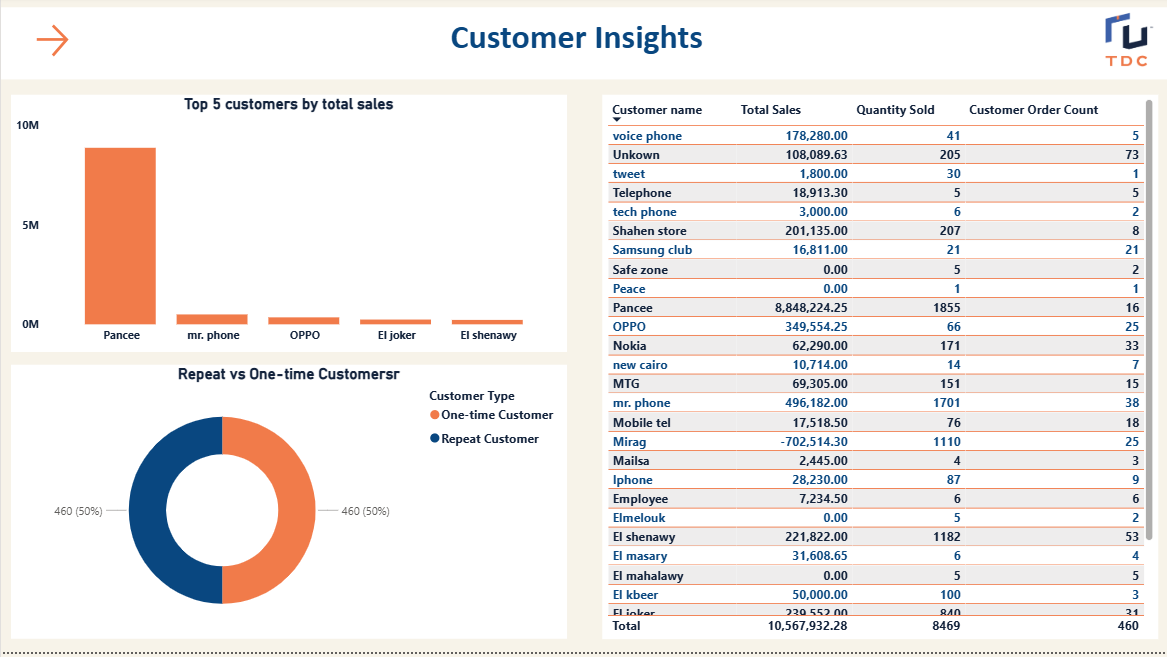

Layout of this report page (visuals, bound fields, positions):
{"tool":"powerbi","page":{"name":"Page 3","canvas":[1280,720],"ordinal":2},"visuals":[{"type":"shape","box":[0,12.3,1280.3,79.6],"z":0},{"type":"image","box":[1196.6,12.3,83.7,71.4],"z":1000},{"type":"textbox","box":[488.2,0,303.6,92.7],"z":2000},{"type":"actionButton","box":[32.8,25.7,134,45.6],"z":3000},{"type":"columnChart","title":" Top 5 customers by total sales ","fields":{"Category":["Monthly SALES.Account name"],"Y":["Monthly SALES.Total Sales"]},"box":[11.4,108.3,610.1,282.2],"z":4000},{"type":"donutChart","title":"Repeat vs One-time Customersr","fields":{"Category":["Customer Summary.Customer Type"],"Y":["Monthly SALES.Customer Order Count"]},"box":[11.4,404.8,610.1,300.8],"z":5000},{"type":"tableEx","fields":{"Values":["Monthly SALES.Account name","Monthly SALES.Total Sales","Monthly SALES.Quantity Sold","Monthly SALES.Customer Order Count"]},"box":[660,108.3,610.1,597.2],"z":6000}]}

Visuals, with their boxes in screenshot pixels (x1, y1, x2, y2), scaled from the page's 1280x720 canvas onto the 1167x657 screenshot:
shape: left=0, top=11, right=1166, bottom=84
image: left=1091, top=11, right=1166, bottom=76
textbox: left=445, top=0, right=722, bottom=85
actionButton: left=30, top=23, right=152, bottom=65
" Top 5 customers by total sales " columnChart: left=10, top=99, right=567, bottom=356
"Repeat vs One-time Customersr" donutChart: left=10, top=369, right=567, bottom=644
tableEx - Monthly SALES.Account name x Monthly SALES.Total Sales: left=602, top=99, right=1158, bottom=644
